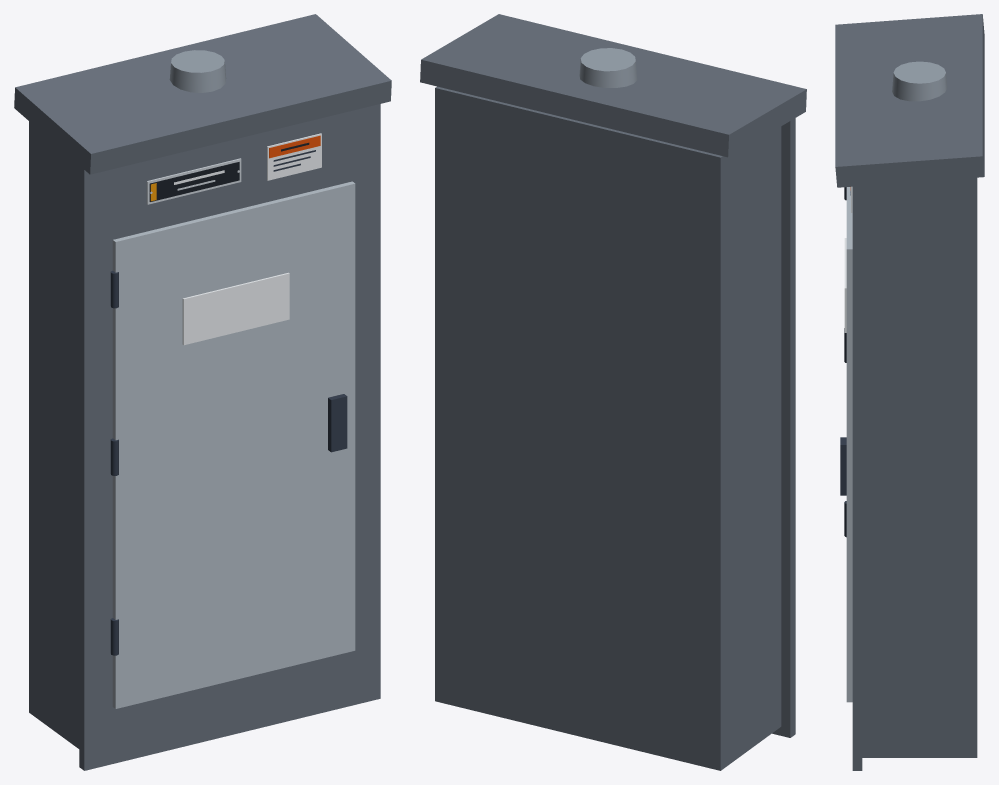
3 views of the same model, side by side, from view 1: azimuth 30°, elevation 25°; view 2: azimuth 150°, elevation 25°; view 3: azimuth 270°, elevation 25° (orthographic). The views are drawn at different scales.
Parts seen in each view (by area): view 1: cad-panelboard, panel-nameplate-placards; view 2: cad-panelboard; view 3: cad-panelboard.
Boxes of the visible parts, x1=… form: cad-panelboard: x1=14, y1=14, x2=391, y2=770; panel-nameplate-placards: x1=146, y1=133, x2=321, y2=204; cad-panelboard: x1=420, y1=14, x2=806, y2=770; cad-panelboard: x1=835, y1=14, x2=984, y2=770.
Bounding box in the file's own units: 0.41 × 0.844 × 0.1817.
